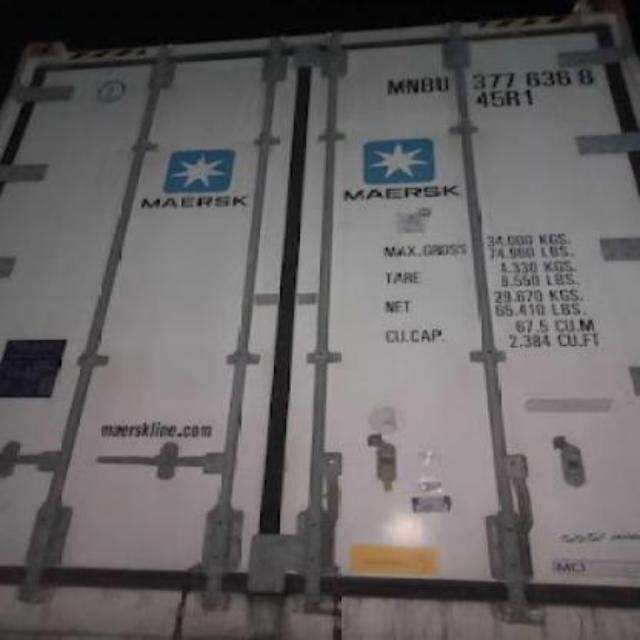3: (541, 70, 555, 88), (472, 73, 484, 91)
6: (524, 70, 540, 90), (556, 69, 572, 87)
7: (487, 70, 501, 90), (502, 72, 516, 90)
8: (576, 68, 596, 88)
B: (420, 76, 434, 94)
M: (386, 78, 404, 94)
N: (406, 76, 419, 96)
U: (434, 74, 450, 94)
